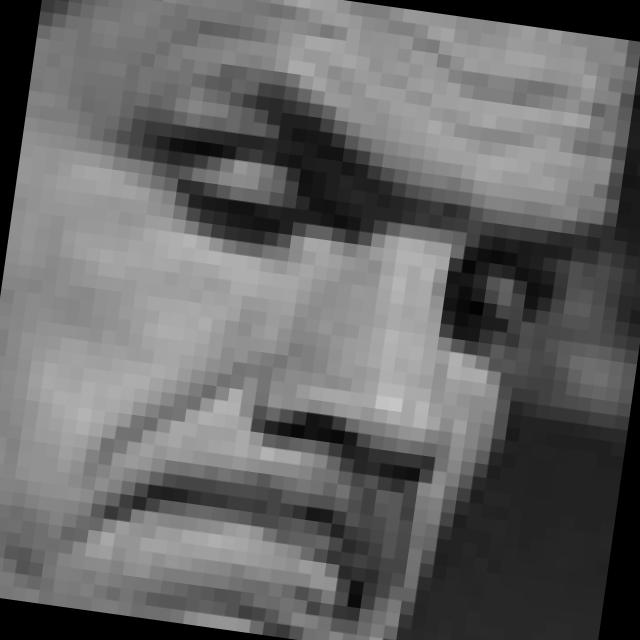sad: (56, 33, 567, 640)
